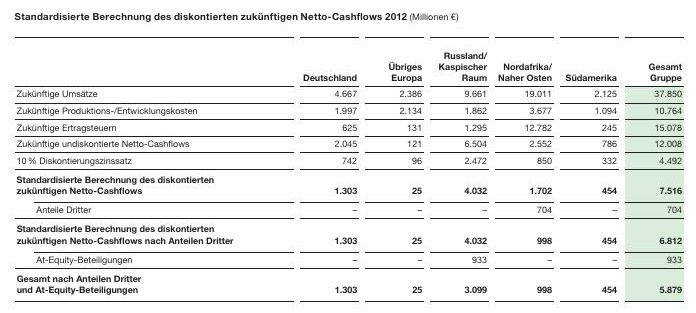table: (0, 0, 696, 313)
